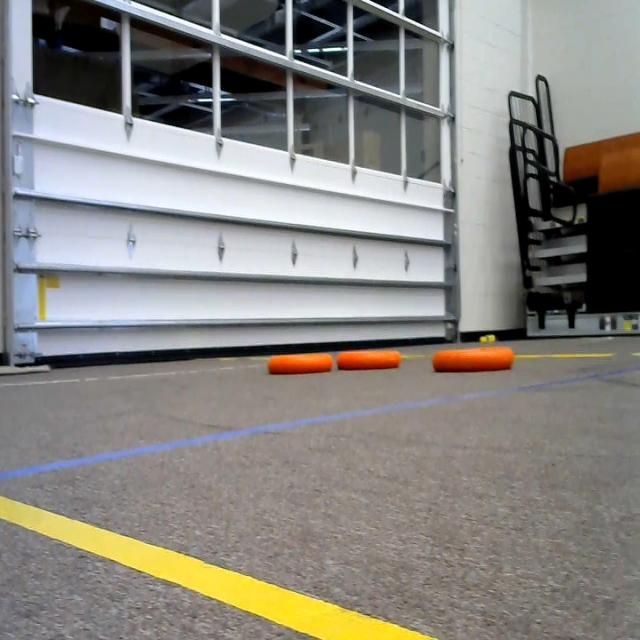note: (432, 346, 518, 372), (265, 348, 337, 378), (335, 346, 404, 369)
